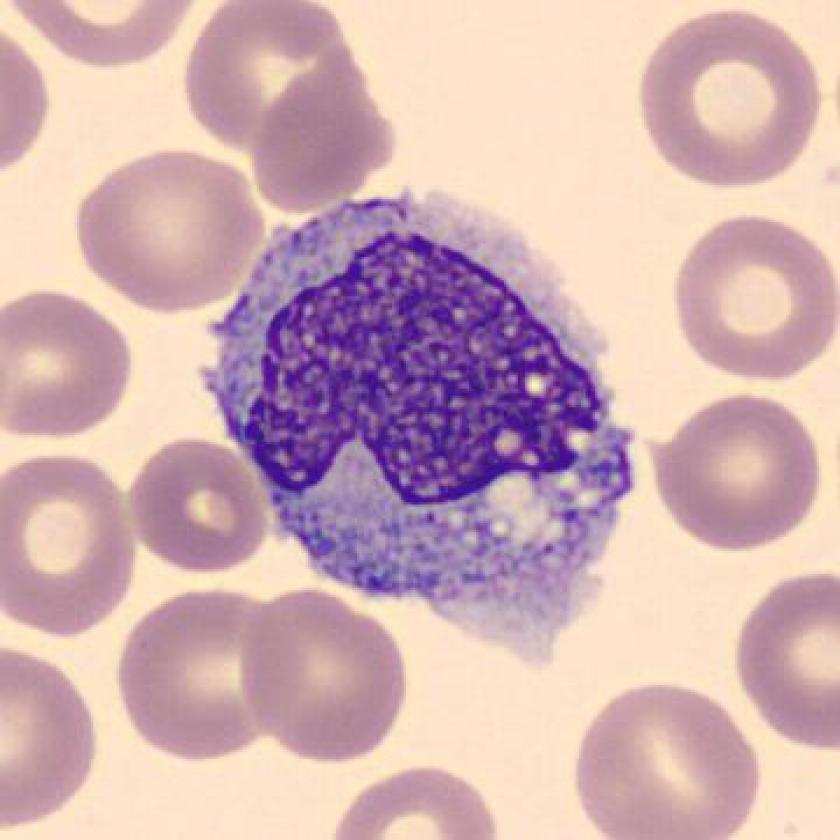monocyte: (192, 168, 650, 670)
